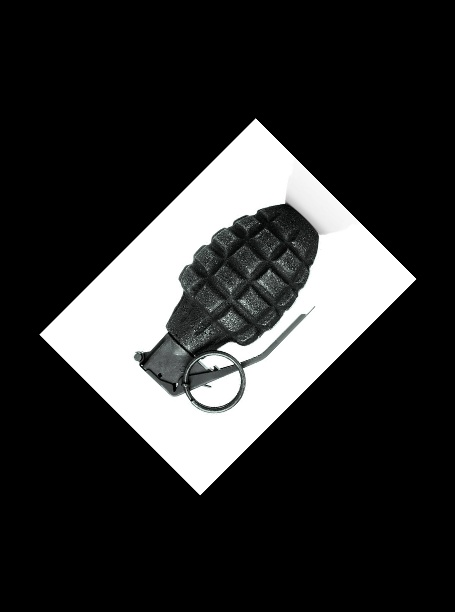e1: (132, 200, 320, 413)
